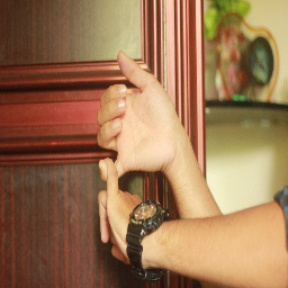S: (90, 48, 181, 263)
